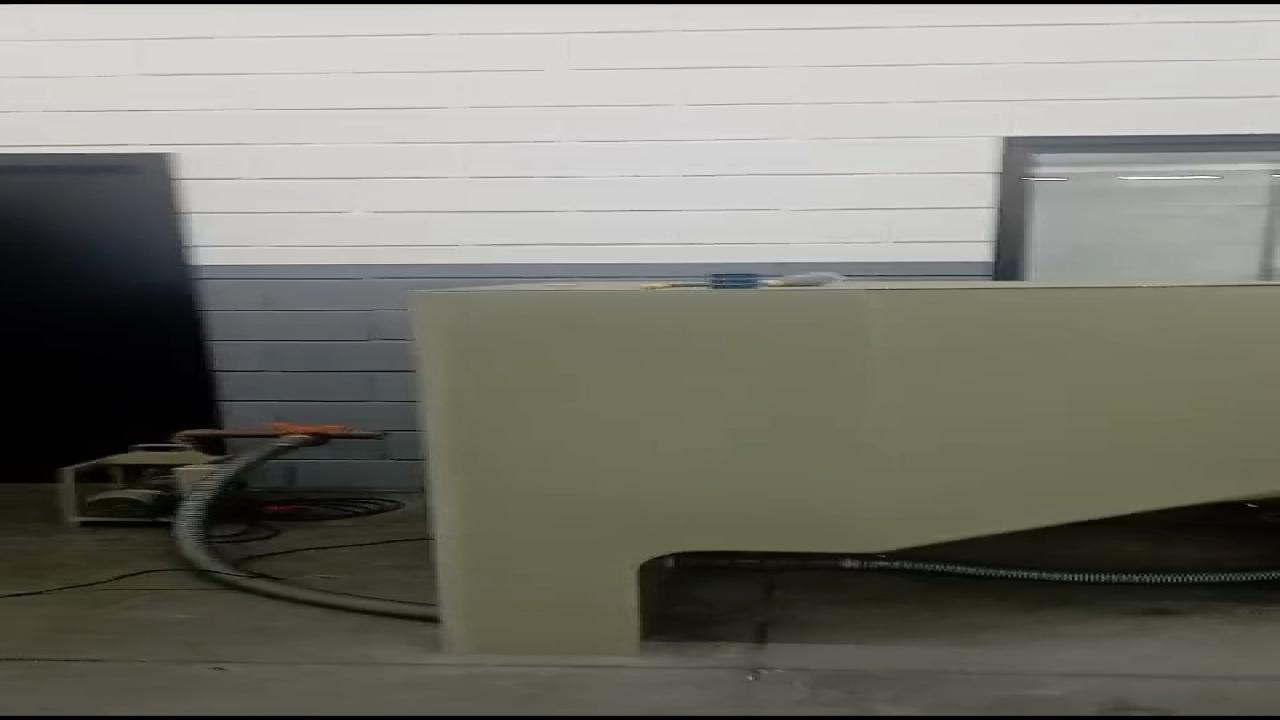Cube: (706, 273, 760, 289)
